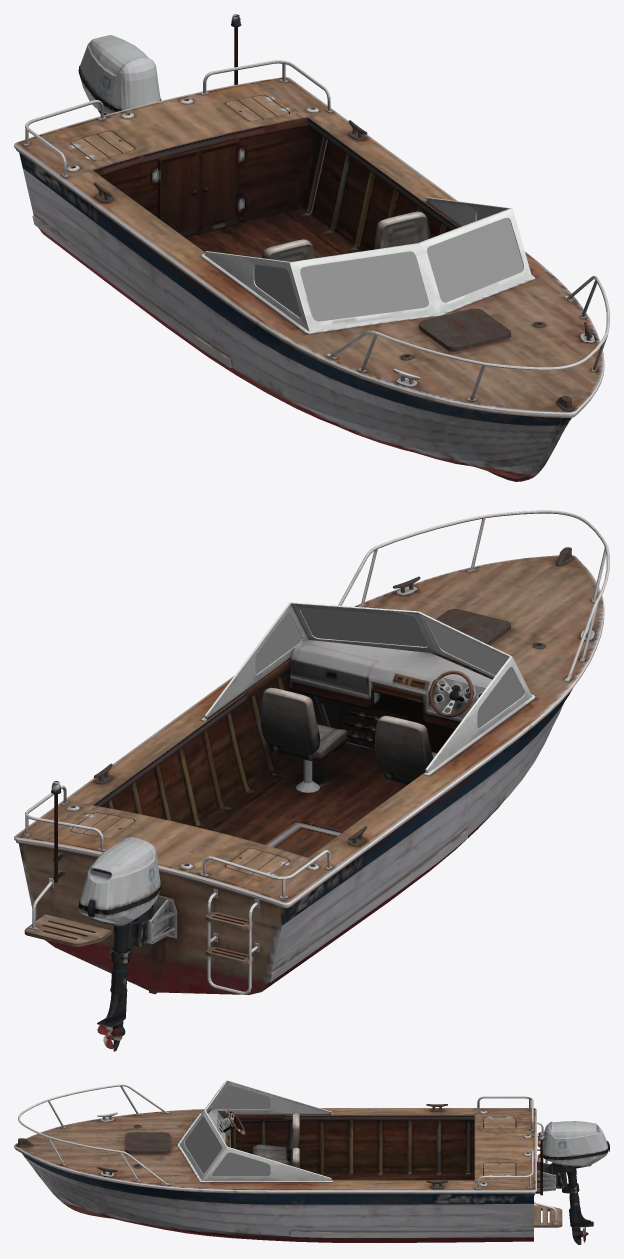
File: Ship.FBX
3 renders of one model, top to bottom at view 1: azimuth 30°, elevation 25°; view 2: azimuth 150°, elevation 25°; view 3: azimuth 270°, elevation 25°, orthographic. The views are drawn at different scales.
Parts seen in each view (by area): view 1: Object001(RBMCarPaint14[U12NM]); view 2: Object001(RBMCarPaint14[U12NM]); view 3: Object001(RBMCarPaint14[U12NM]).
Part boxes in pixels (bbox=[...]): Object001(RBMCarPaint14[U12NM]): bbox=[14, 14, 609, 481]; Object001(RBMCarPaint14[U12NM]): bbox=[14, 510, 609, 1051]; Object001(RBMCarPaint14[U12NM]): bbox=[14, 1080, 609, 1244].
Bounding box in the file's own units: 350 × 271 × 1058.
4 materials, 3 textured.
